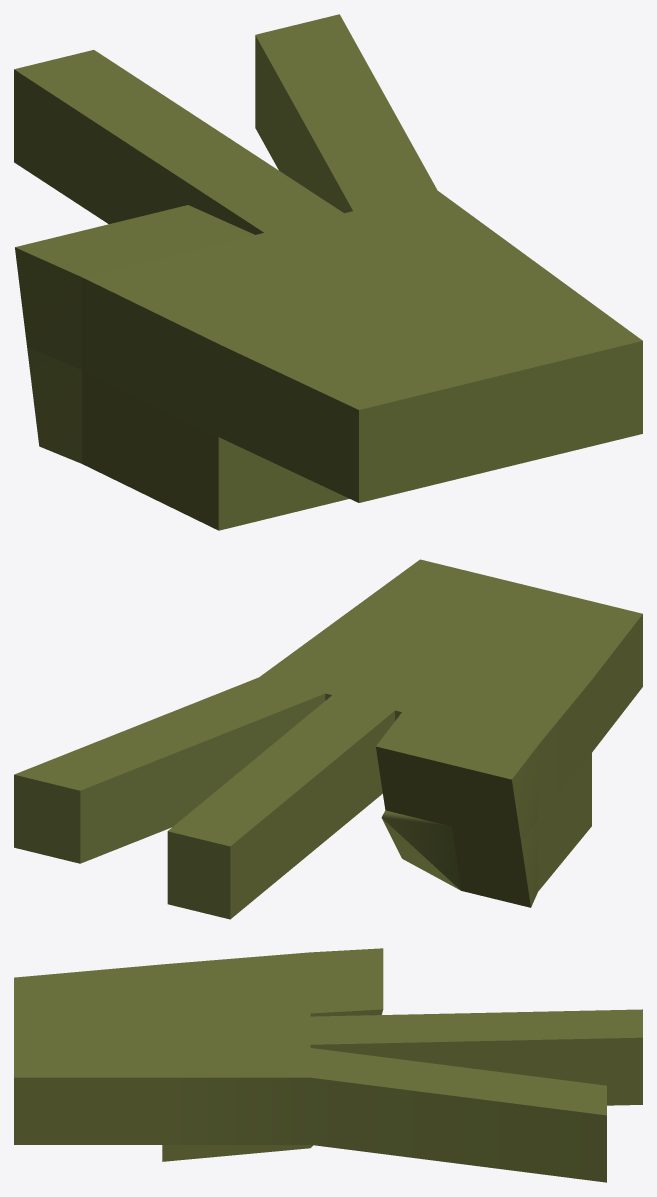
File: puroto_choki.obj
3 renders of one model, top to bottom at view 1: azimuth 30°, elevation 25°; view 2: azimuth 150°, elevation 25°; view 3: azimuth 270°, elevation 25°, orthographic. The views are drawn at different scales.
Visible parts, largest first — view 1: puroto_choki_MDL; view 2: puroto_choki_MDL; view 3: puroto_choki_MDL.
Boxes of the visible parts, x1,y1,x2,y2 form: puroto_choki_MDL: (14, 14, 642, 530); puroto_choki_MDL: (14, 559, 642, 919); puroto_choki_MDL: (14, 948, 642, 1182).
Size of the model in its own units: 5.4 by 2.01 by 8.48.
Materials: 1 (1 with a texture image).
